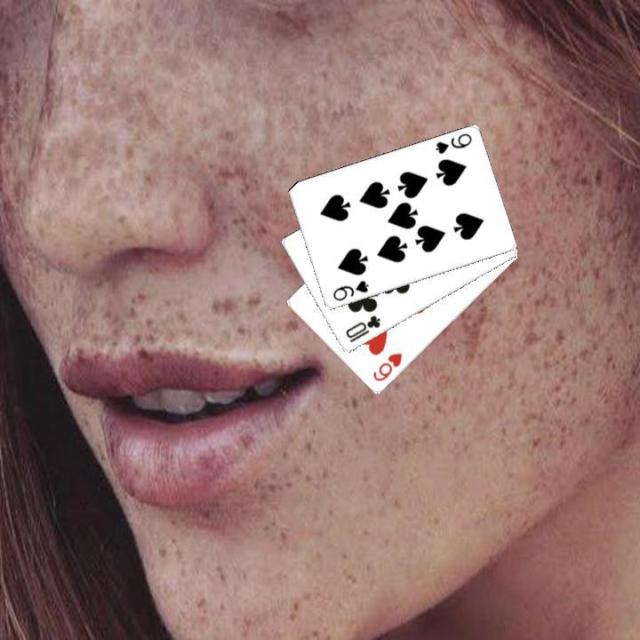10C: (342, 312, 382, 345)
6H: (369, 349, 403, 383)
9S: (431, 130, 474, 156), (329, 277, 371, 303)
